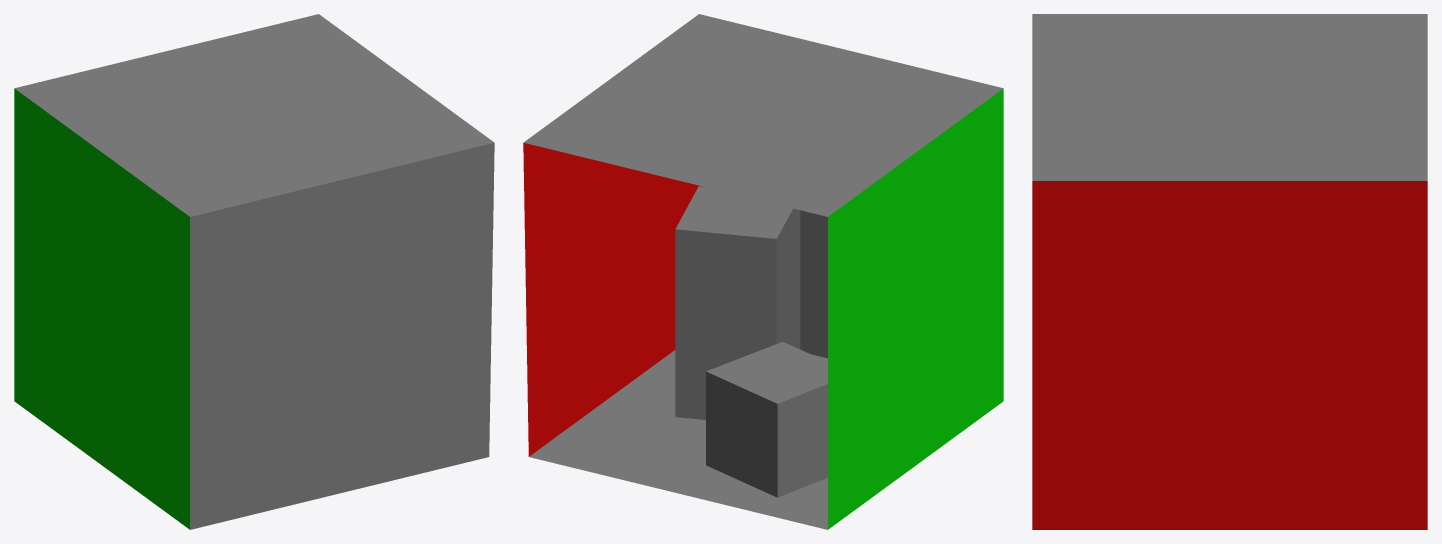
File: cornellorg-boxes.obj
3 renders of one model, left to right at view 1: azimuth 30°, elevation 25°; view 2: azimuth 150°, elevation 25°; view 3: azimuth 270°, elevation 25°, orthographic. The views are drawn at different scales.
Visible parts, largest first — view 1: tallbox; view 2: tallbox; view 3: tallbox.
Boxes of the visible parts, x1,y1,x2,y2 form: tallbox: (14, 14, 494, 529); tallbox: (523, 14, 1003, 529); tallbox: (1032, 14, 1427, 529).
Bounding box in the file's own units: 560 × 550 × 560.
